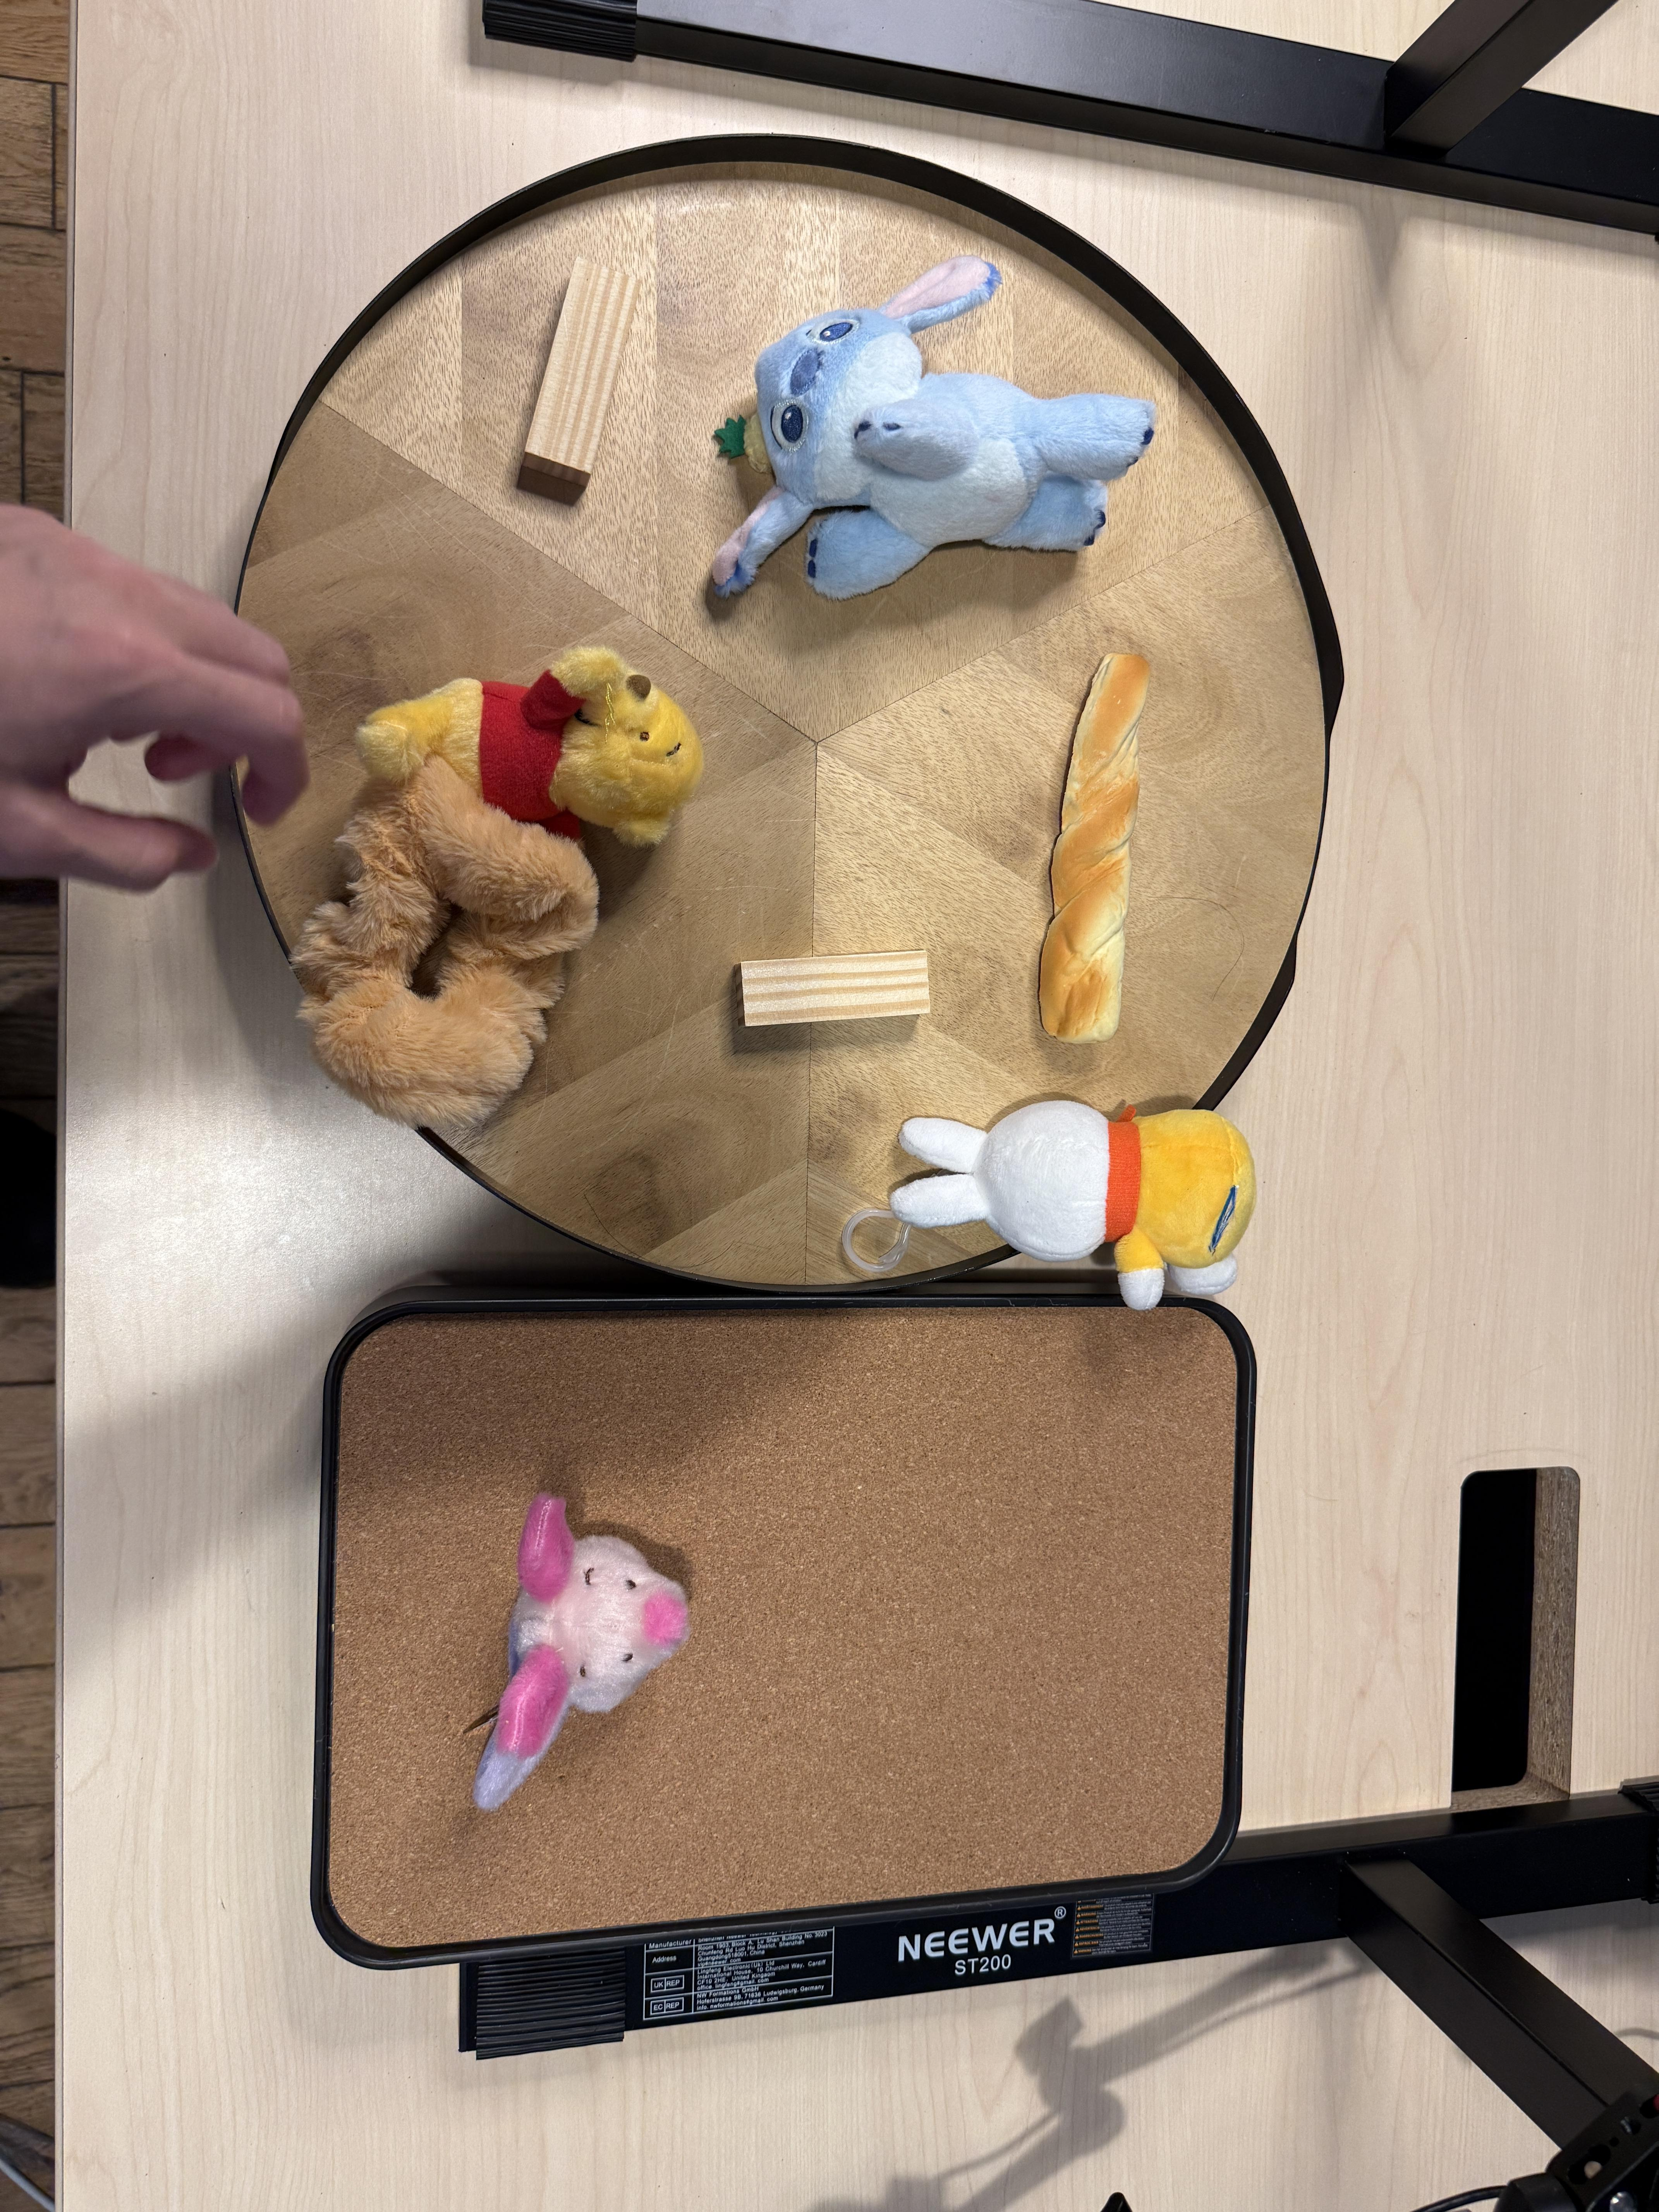block: (530, 256, 641, 479), (735, 949, 932, 1038)
bread: (1042, 651, 1145, 1045)
doll: (298, 639, 701, 1122), (709, 253, 1161, 610), (890, 1092, 1269, 1305), (465, 1494, 694, 1815)
